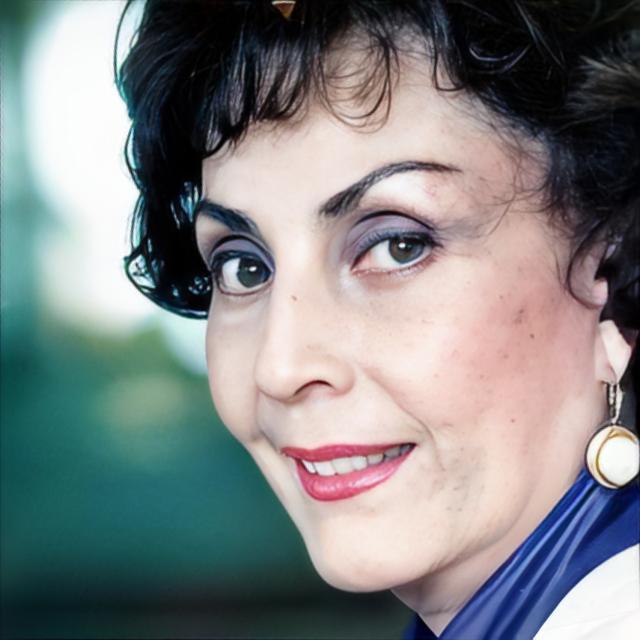happy: (201, 65, 585, 588)
